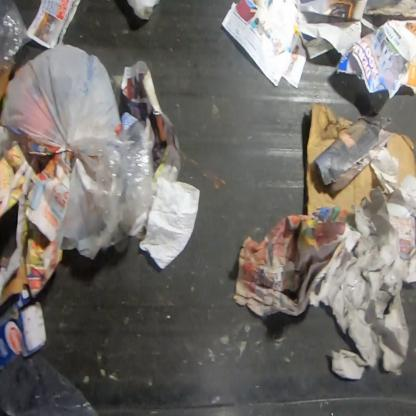cardboard: (305, 102, 382, 216), (0, 244, 47, 374), (384, 132, 415, 186), (0, 67, 12, 103)
soft_plastic: (0, 43, 122, 260), (92, 116, 158, 254), (0, 350, 101, 415), (0, 0, 33, 74), (125, 0, 161, 21)
